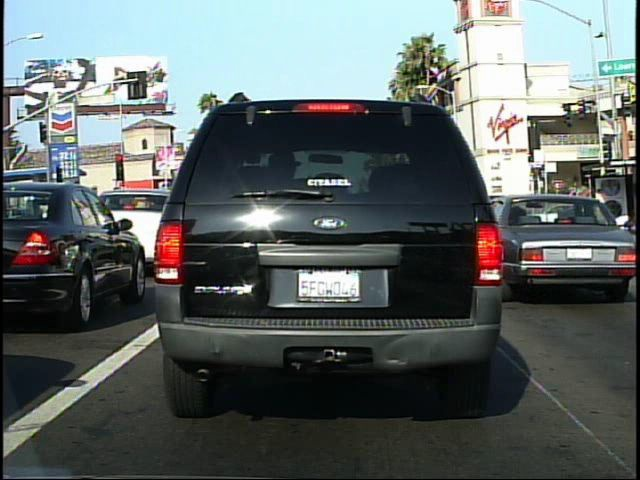person: (590, 183, 612, 246)
